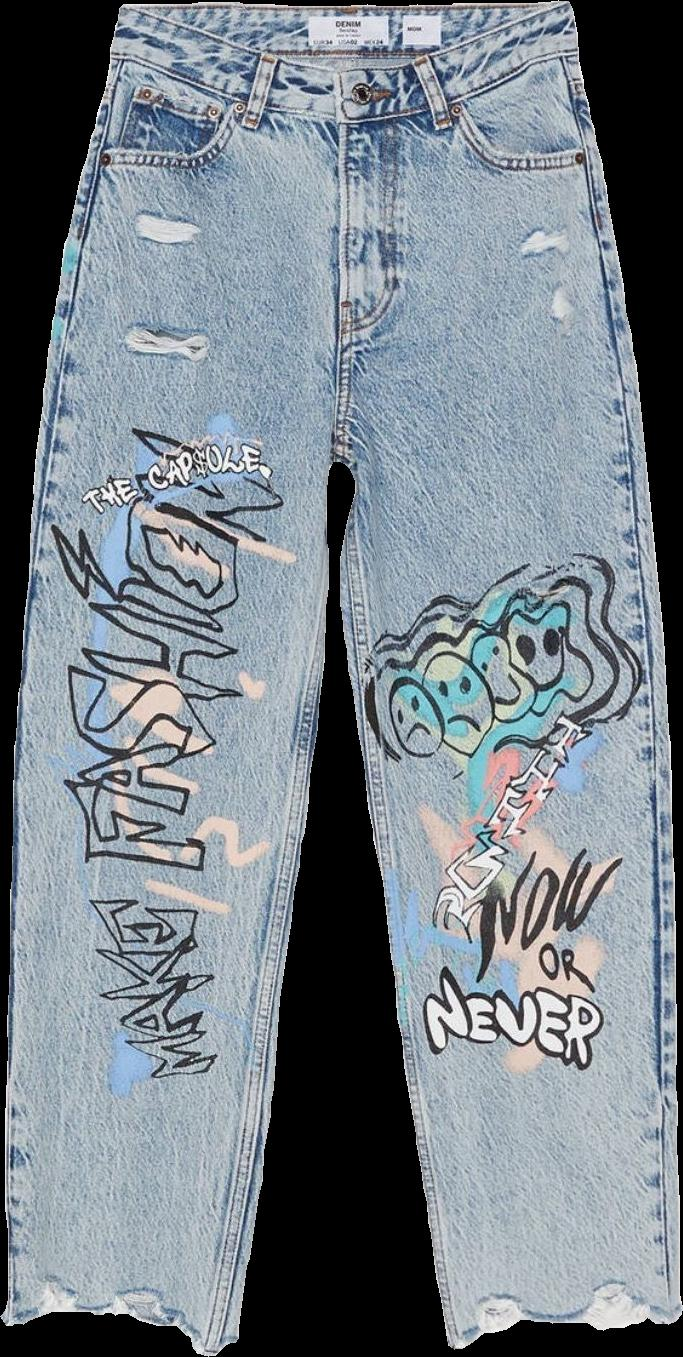Hemline: (0, 1297, 240, 1356), (451, 1297, 682, 1356)
Pantleg: (331, 0, 681, 1347), (2, 0, 339, 1354)
Waistline: (109, 30, 575, 133), (114, 0, 563, 76)
